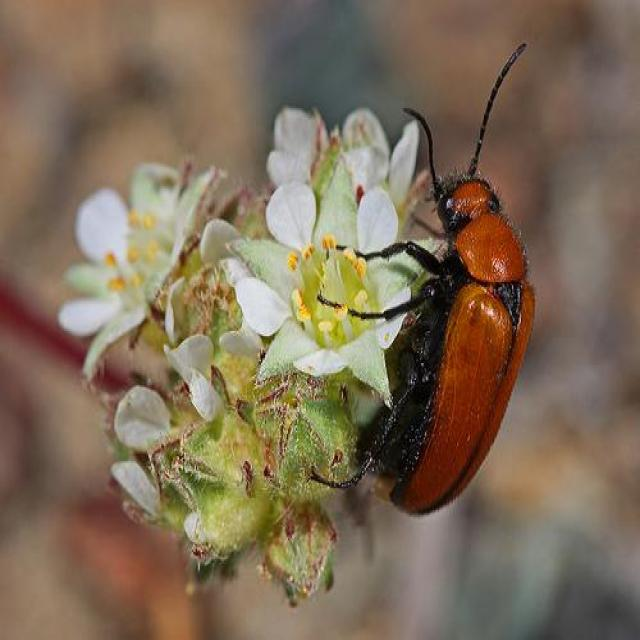BlisterBeetle-Adult-: (321, 41, 552, 522)
